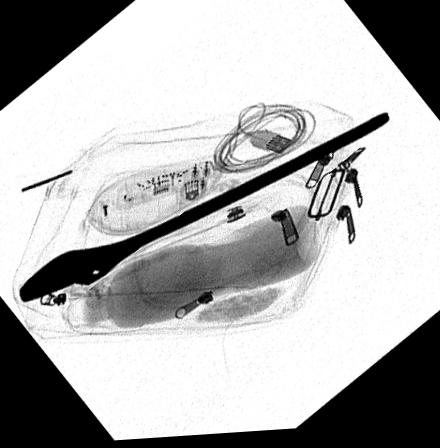Wrench: (13, 116, 388, 304)
